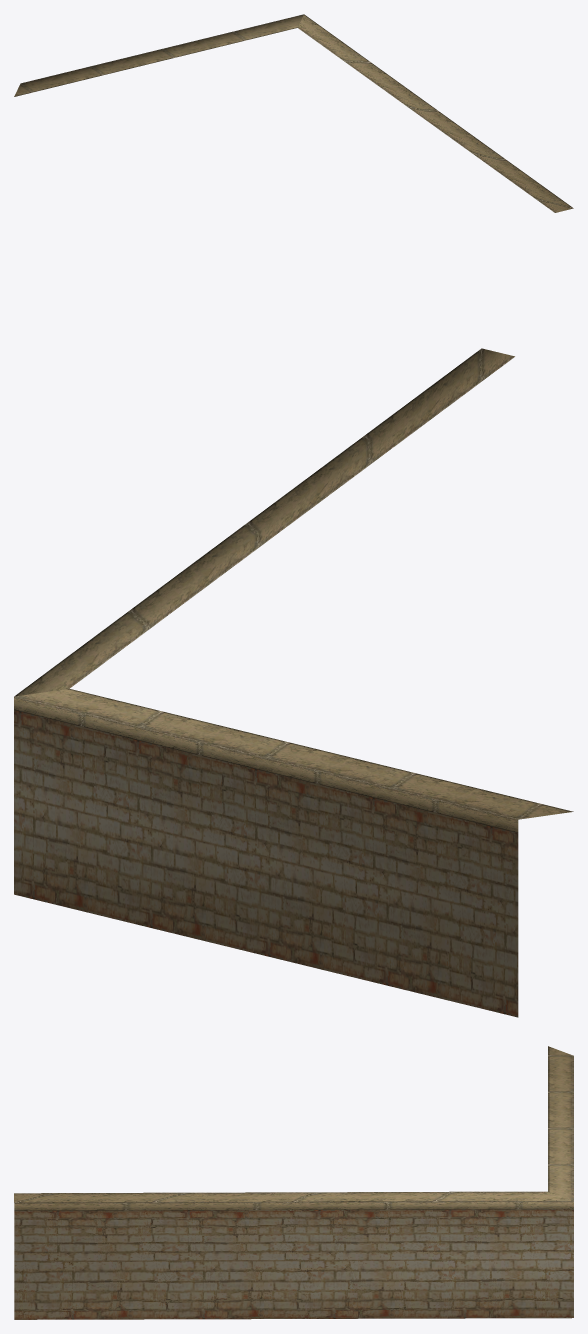
File: M10_Z01_06_Wall02.glb
3 renders of one model, top to bottom at view 1: azimuth 30°, elevation 25°; view 2: azimuth 150°, elevation 25°; view 3: azimuth 270°, elevation 25°, orthographic. The views are drawn at different scales.
Parts seen in each view (by area): view 1: M10_Z01_06_WALL02; view 2: M10_Z01_06_WALL02; view 3: M10_Z01_06_WALL02.
Boxes of the visible parts, x1=… form: M10_Z01_06_WALL02: x1=14, y1=14, x2=573, y2=212; M10_Z01_06_WALL02: x1=14, y1=348, x2=573, y2=1017; M10_Z01_06_WALL02: x1=14, y1=1046, x2=573, y2=1319.
Bounding box in the file's own units: 8.63 × 3 × 13.02.
2 materials, 2 textured.
